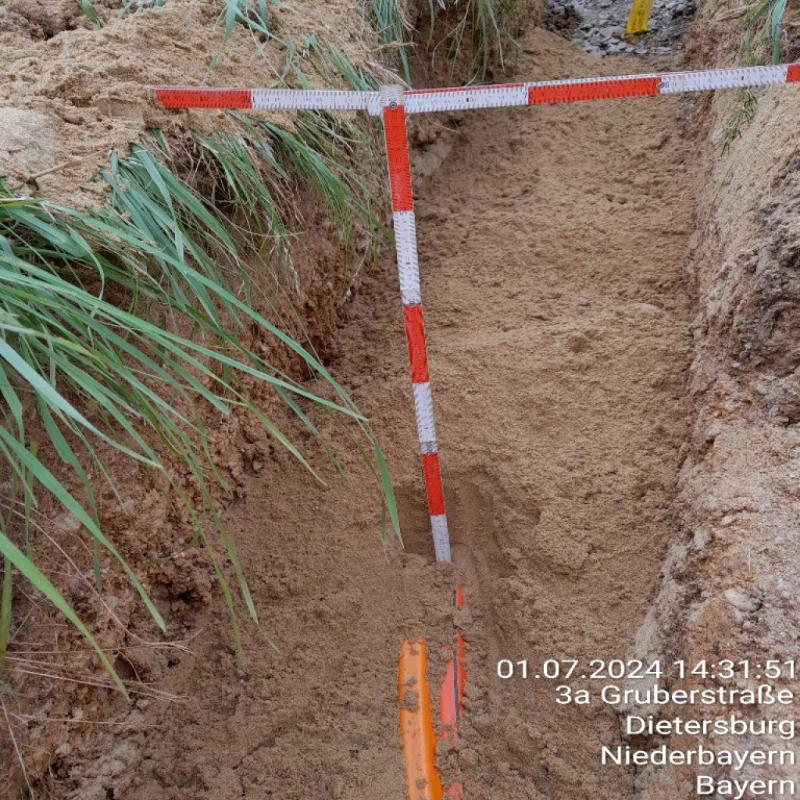Orang-Speednetrohrchen: (400, 644, 442, 796)
